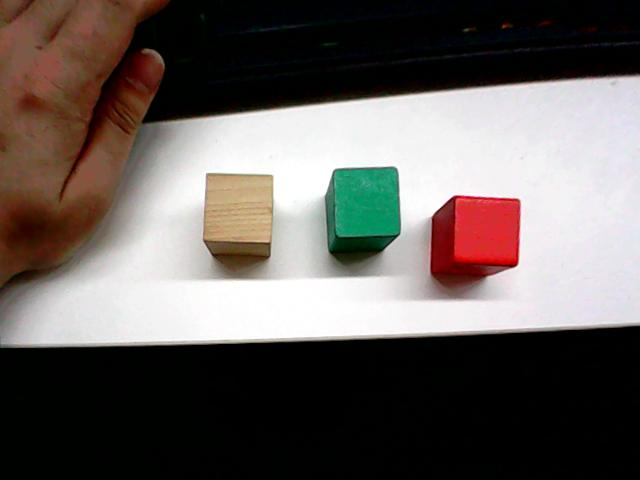green_box: (322, 162, 403, 256)
raw_box: (200, 168, 275, 261)
red_box: (427, 190, 524, 281)
